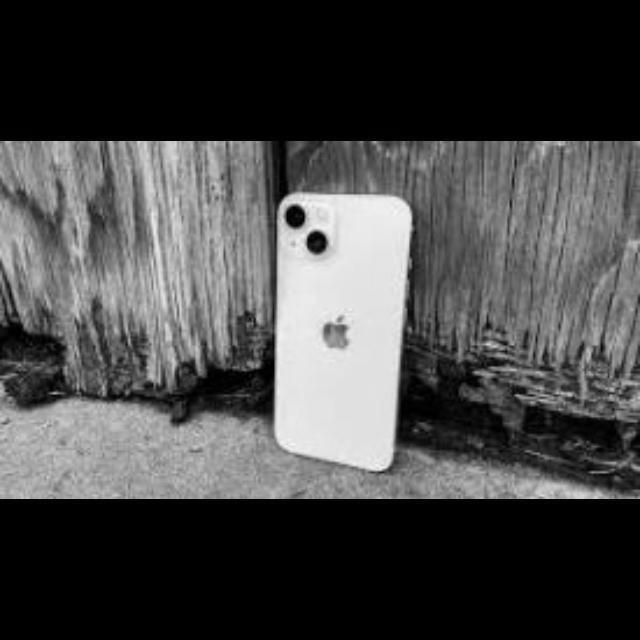fake: (274, 180, 408, 468)
